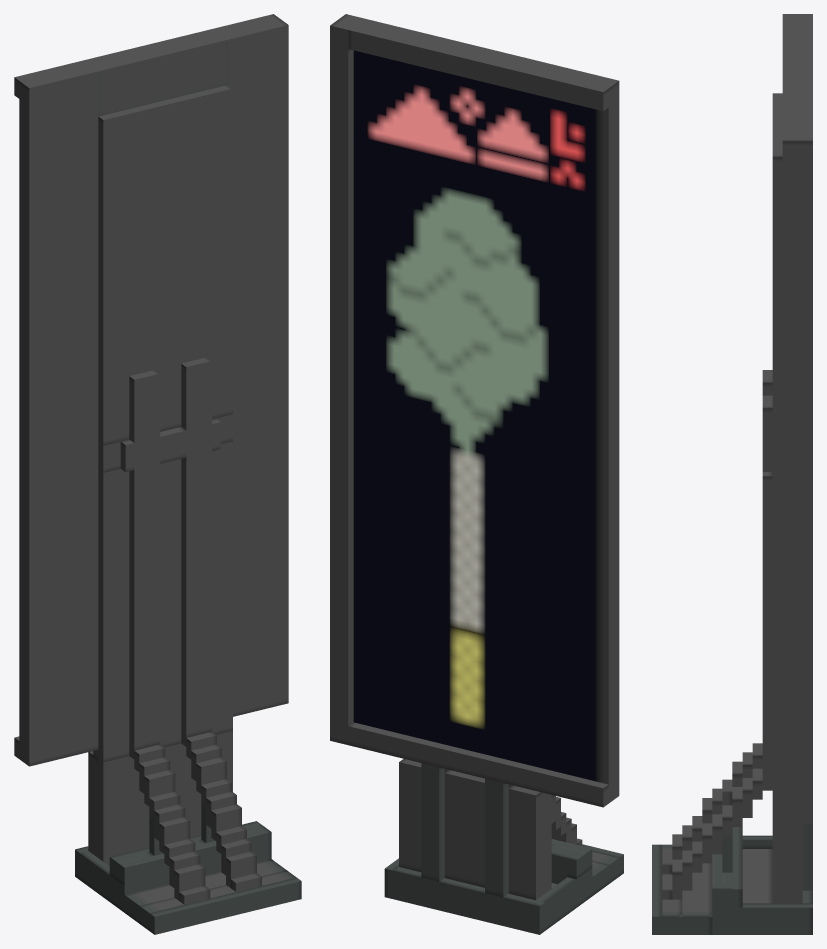
Rendered from reklama_08.dae.
The picture shows the model from 3 angles, left to right: view 1: azimuth 30°, elevation 25°; view 2: azimuth 150°, elevation 25°; view 3: azimuth 270°, elevation 25°; orthographic projection. The views are drawn at different scales.
Parts seen in each view (by area): view 1: Content; view 2: Content; view 3: Content.
Part boxes in pixels (x1,y1,x2,y2): Content: (14, 14, 301, 934); Content: (330, 14, 623, 934); Content: (652, 14, 812, 934).
Size of the model in its own units: 30 by 90 by 16.
Materials: 1 (1 with a texture image).
